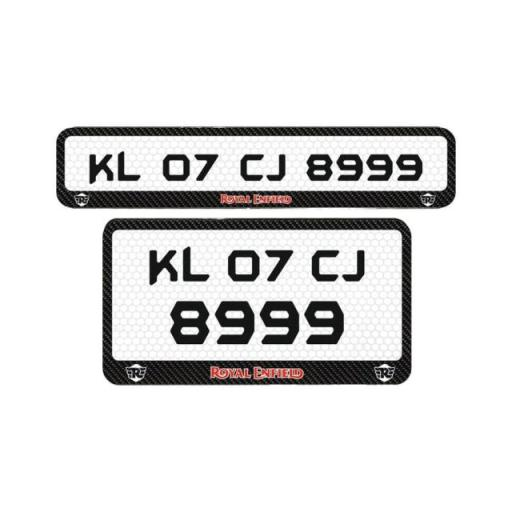number plate: (110, 224, 406, 381), (60, 130, 450, 208)
